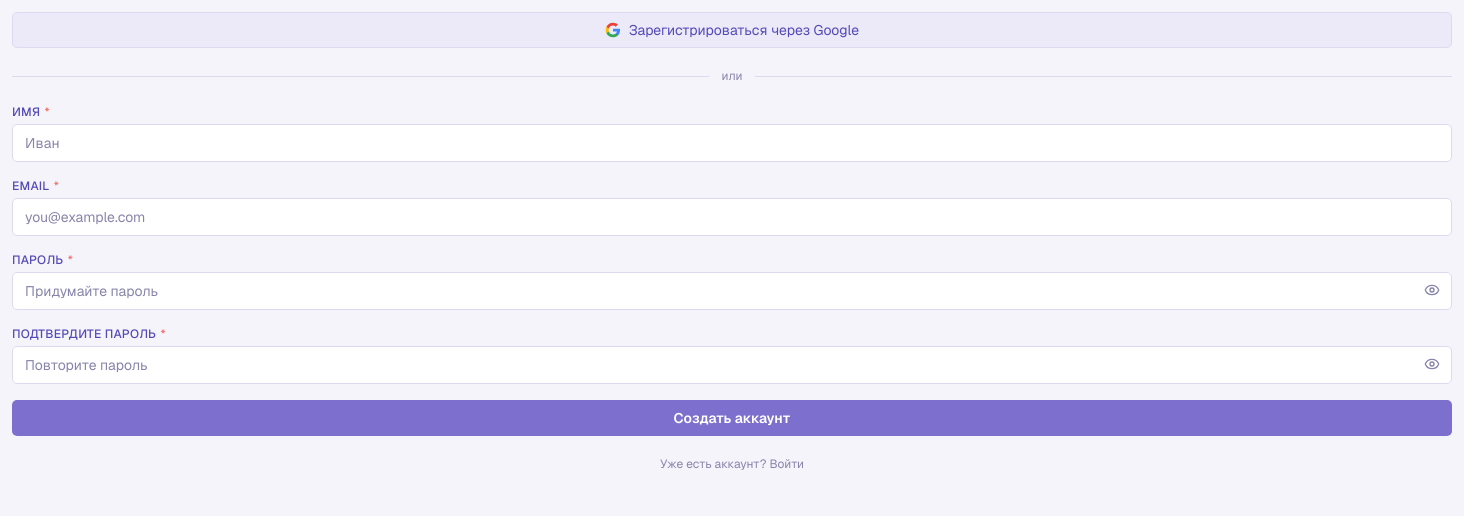
it: RegisterForm › shows PasswordStrengthIndicator when password is typed
Type "test" into the password field with placeholder "Придумайте пароль".
click(732, 291); type("test")  # box x1=12 y1=272 x2=1452 y2=310
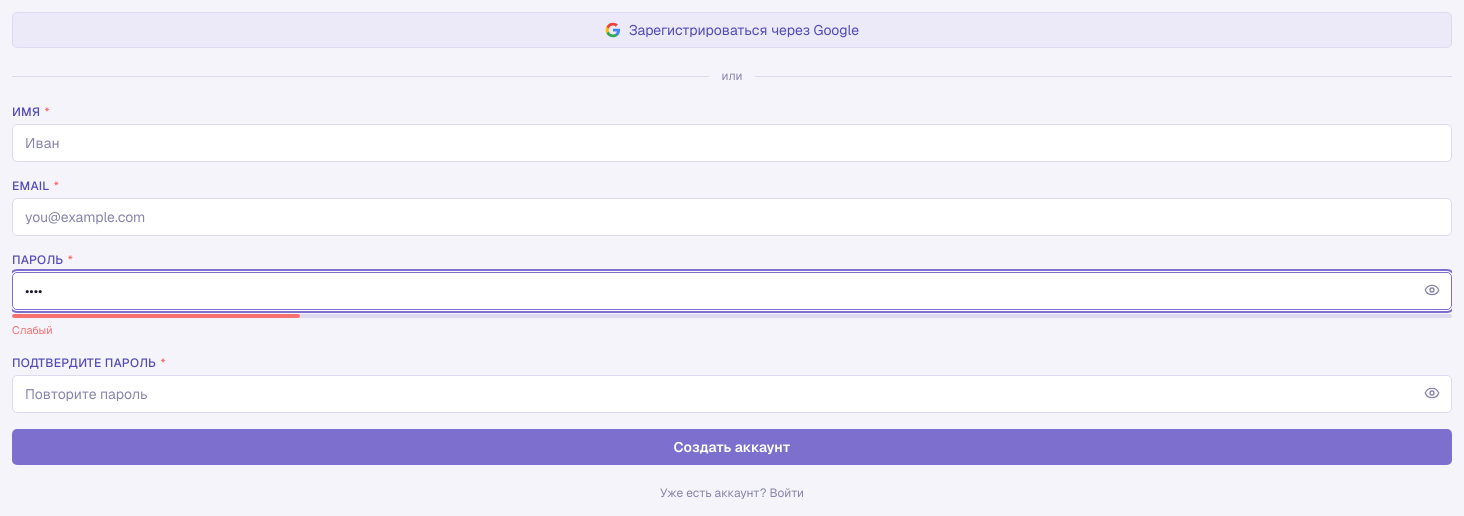
Expected: the text "Слабый" is shown, x1=12 y1=323 x2=53 y2=337
